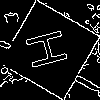H: (25, 25, 78, 72)
